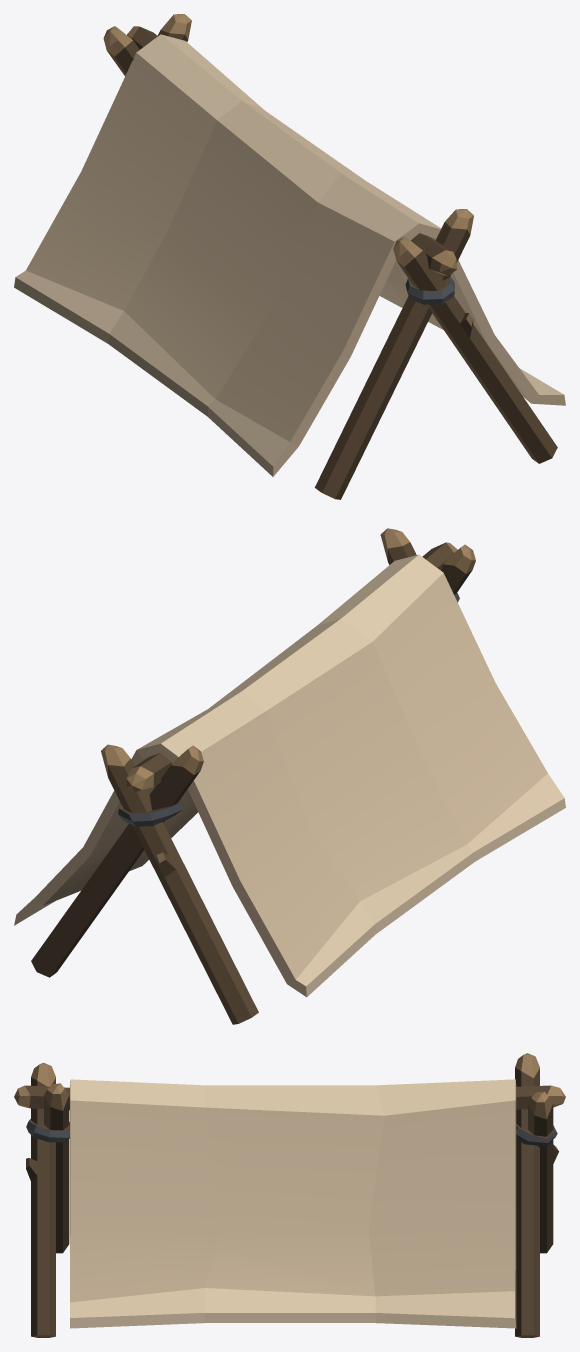
The model's file is SM_Bld_Tent_Single_01.fbx.
The picture shows the model from 3 angles, top to bottom: view 1: azimuth 30°, elevation 25°; view 2: azimuth 150°, elevation 25°; view 3: azimuth 270°, elevation 25°; orthographic projection. The views are drawn at different scales.
Visible parts, largest first — view 1: SM_Bld_Tent_Single_01; view 2: SM_Bld_Tent_Single_01; view 3: SM_Bld_Tent_Single_01.
Part boxes in pixels (x1,y1,x2,y2): SM_Bld_Tent_Single_01: [14, 14, 565, 499]; SM_Bld_Tent_Single_01: [14, 528, 565, 1024]; SM_Bld_Tent_Single_01: [14, 1053, 565, 1337].
Bounding box in the file's own units: 1.7 × 1.45 × 3.22.
Materials: 1 (1 with a texture image).
